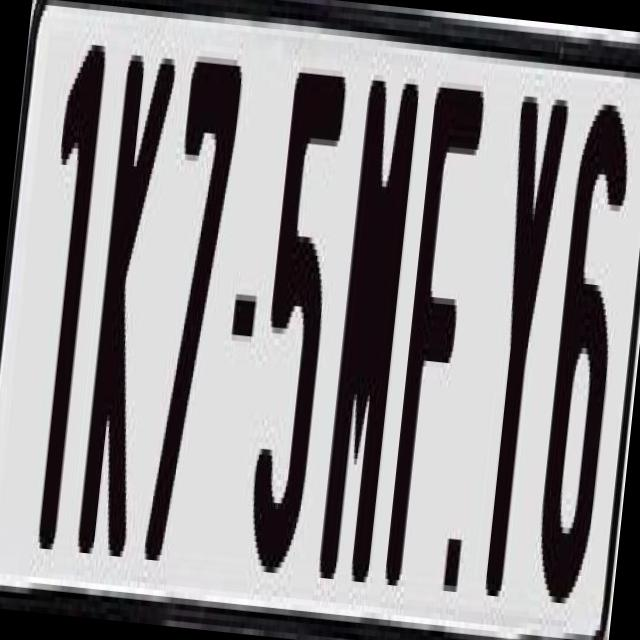1: (16, 36, 112, 573)
5: (242, 66, 355, 587)
6: (527, 101, 630, 610)
7: (133, 55, 239, 592)
F: (381, 87, 484, 600)
K: (74, 42, 178, 580)
M: (316, 79, 422, 588)
Y: (464, 78, 568, 610)
